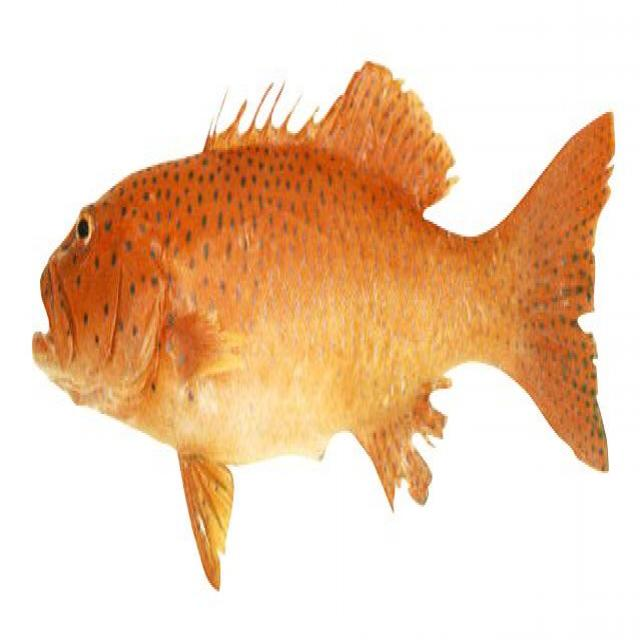Leopard coral grouper: (31, 51, 625, 600)
